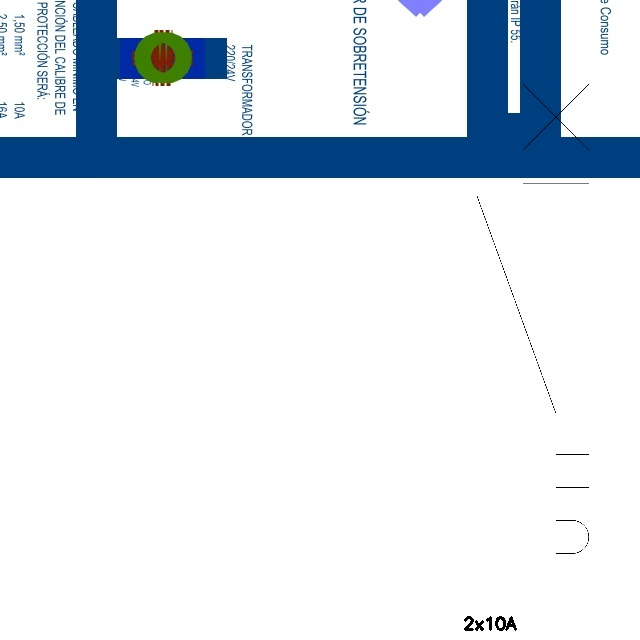interruptor_termomagnetico: (463, 37, 603, 609)
